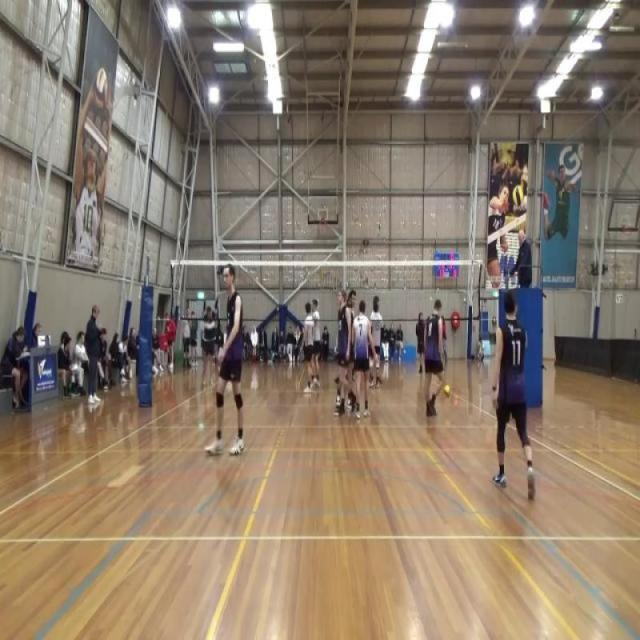volleyball: (95, 66, 108, 109), (512, 184, 524, 206), (444, 384, 452, 397)
